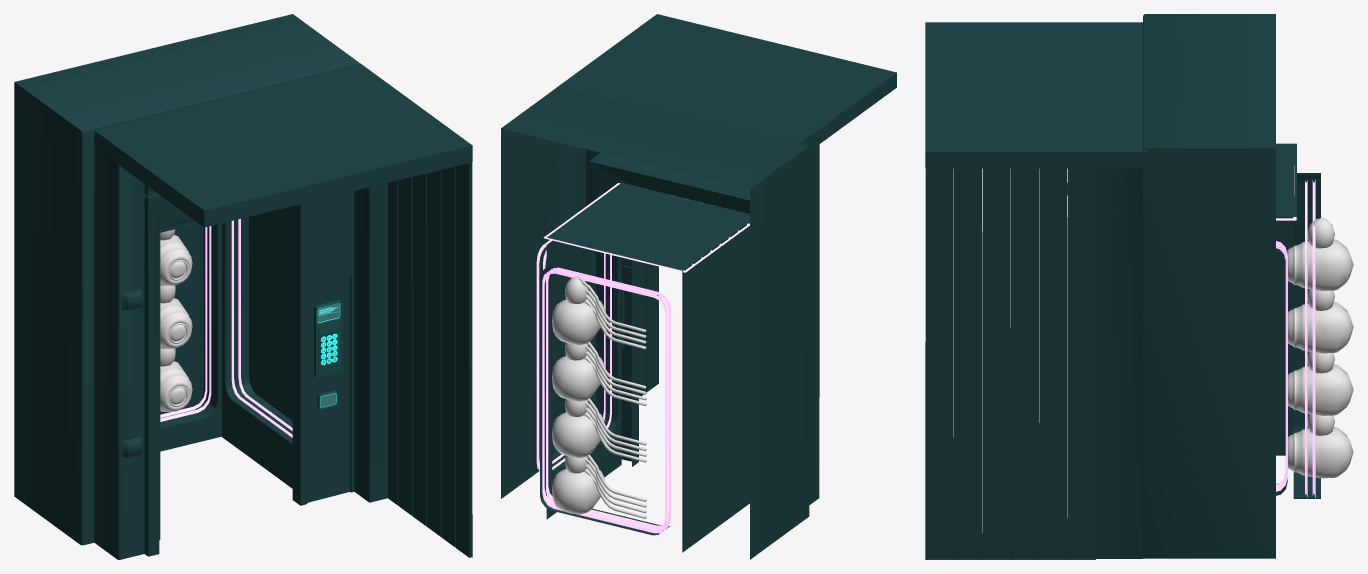
The model's file is elevator.fbx.
The picture shows the model from 3 angles, left to right: view 1: azimuth 30°, elevation 25°; view 2: azimuth 150°, elevation 25°; view 3: azimuth 270°, elevation 25°; orthographic projection. The views are drawn at different scales.
Parts seen in each view (by area): view 1: main body, techo, left pared, right_window, back_window, tubo back.002, tablero, neon right, neon back, detalle; view 2: main body, techo, tubo back.002, right_window, neon back, back_window, left pared, neon right, neon up; view 3: main body, left pared, techo, tubo back.002, back_window, neon back, neon right.
Boxes of the visible parts, x1,y1,x2,y2 form: main body: (14,14,387,559); techo: (94,63,472,227); left pared: (388,162,472,557); right_window: (222,206,292,488); back_window: (160,223,221,451); tubo back.002: (160,229,192,411); tablero: (314,300,342,409); neon right: (231,219,292,437); neon back: (160,226,211,421); detalle: (122,289,142,458); main body: (501,85,819,559); techo: (560,14,896,151); tubo back.002: (552,276,646,518); right_window: (529,238,621,519); neon back: (542,267,670,533); back_window: (540,260,669,535); left pared: (639,262,658,396); neon right: (536,240,611,470); neon up: (543,183,749,272); main body: (1096,14,1296,558); left pared: (925,168,1095,559); techo: (925,22,1147,168); tubo back.002: (1287,217,1353,478); back_window: (1293,173,1320,498); neon back: (1305,179,1315,498); neon right: (1276,241,1287,491).
Bounding box in the file's own units: 483 × 682 × 644.
